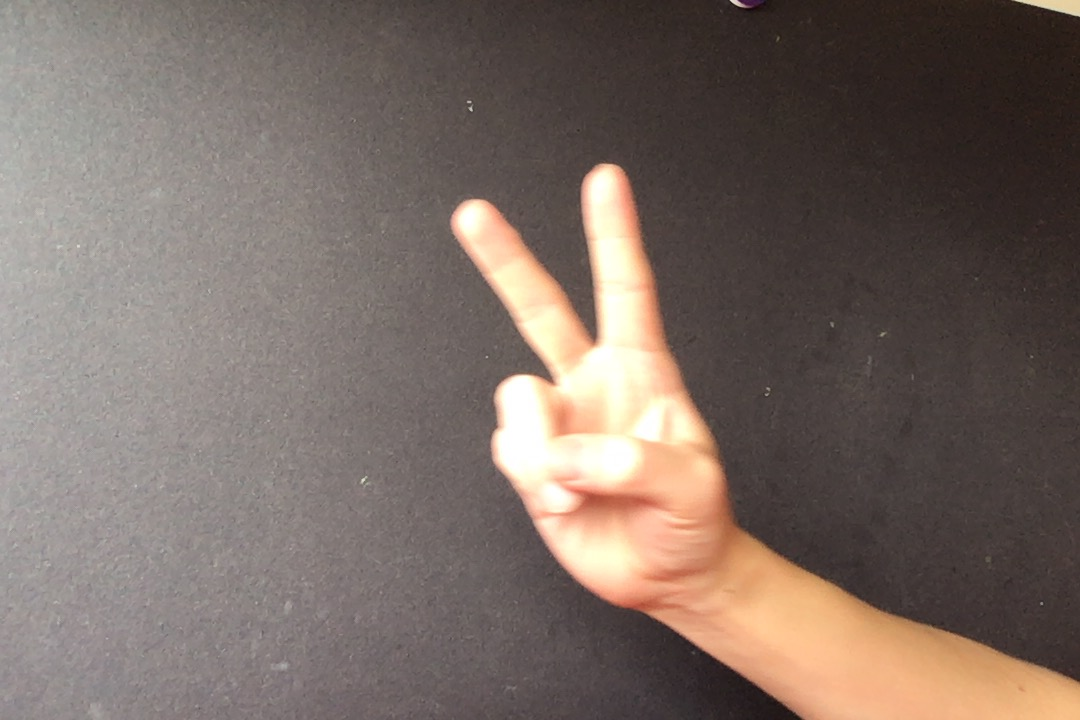peacesign: (432, 153, 740, 616)
